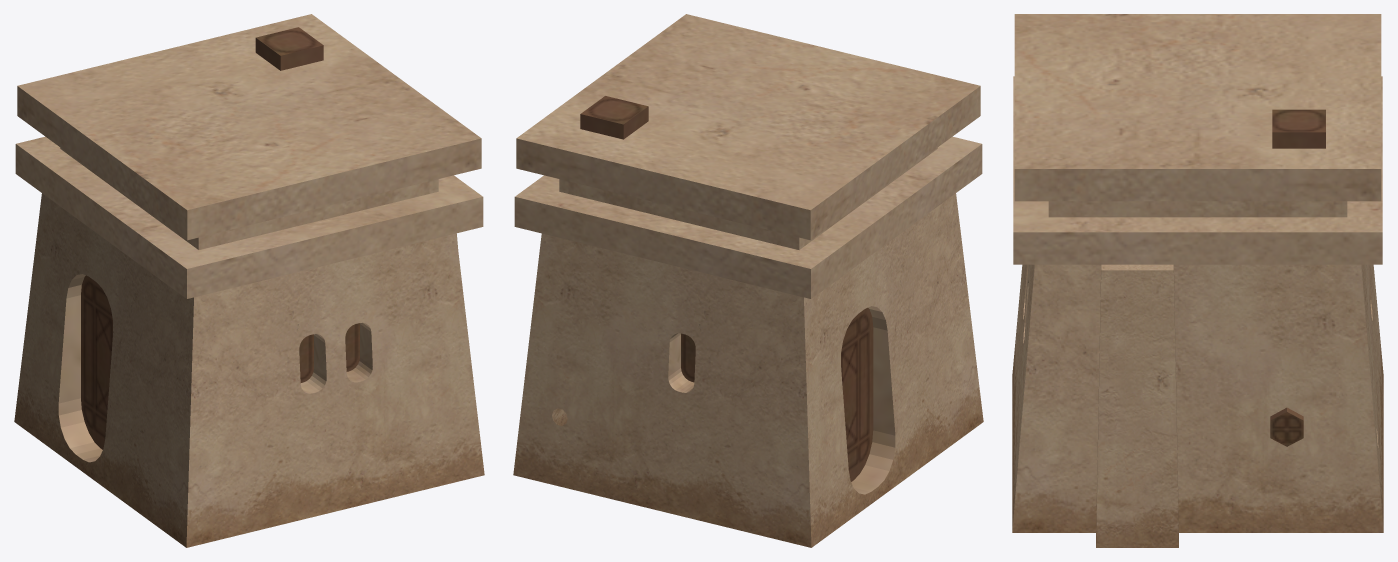
File: building_5.glb
3 renders of one model, left to right at view 1: azimuth 30°, elevation 25°; view 2: azimuth 150°, elevation 25°; view 3: azimuth 270°, elevation 25°, orthographic. The views are drawn at different scales.
Visible parts, largest first — view 1: Object_3.001; view 2: Object_3.001; view 3: Object_3.001.
Boxes of the visible parts, <box> form: Object_3.001: <box>14,14,484,547</box>; Object_3.001: <box>513,14,983,547</box>; Object_3.001: <box>1012,14,1383,547</box>.
Bounding box in the file's own units: 4.54 × 4.67 × 4.14.
Materials: 1 (1 with a texture image).
